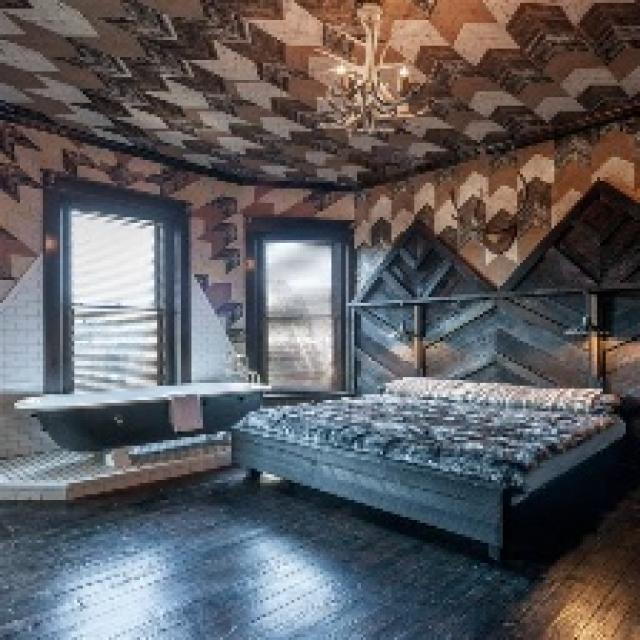Bed: (228, 374, 626, 563)
